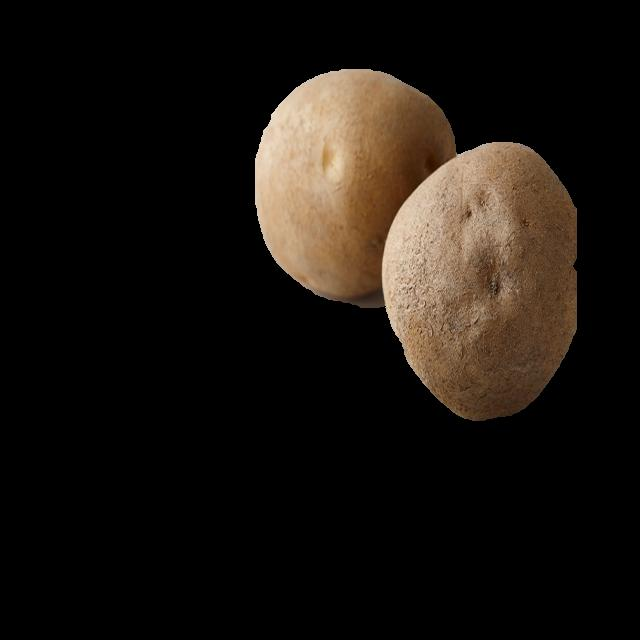potato: (388, 171, 586, 415), (253, 73, 454, 290)
